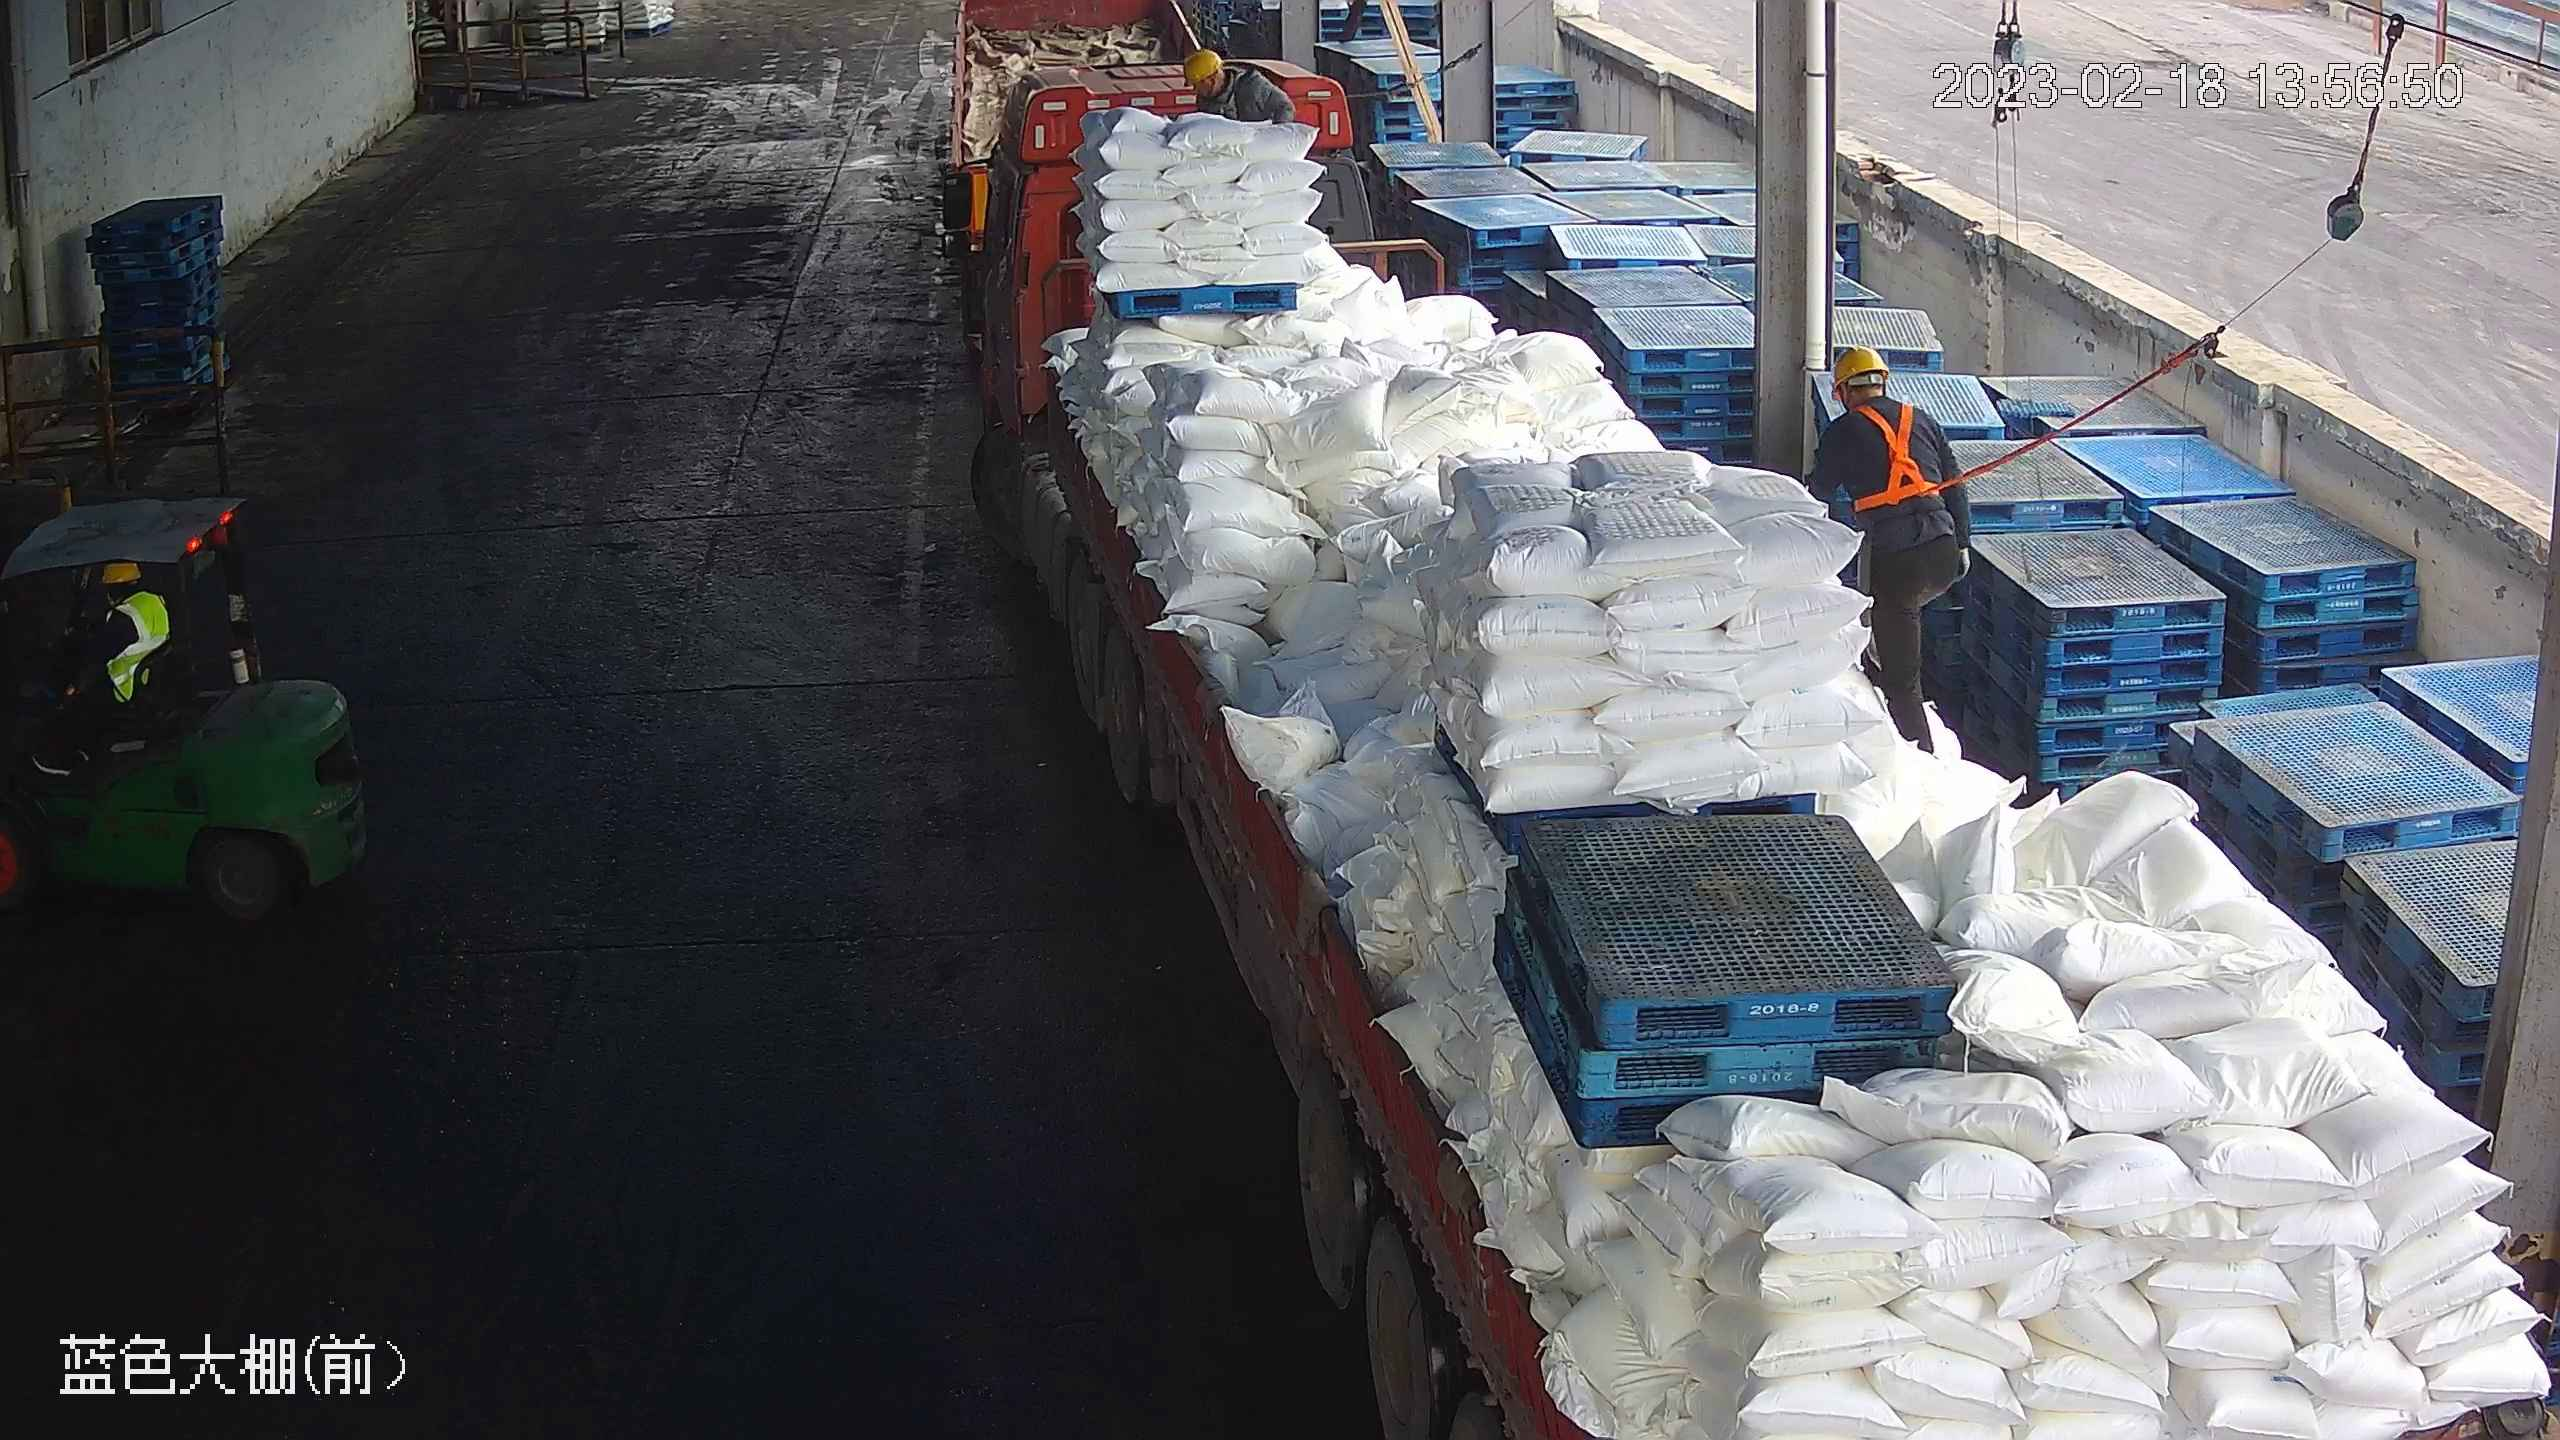belt: (1844, 399, 1941, 509), (1211, 66, 1265, 111)
head: (1812, 340, 1949, 453), (94, 560, 168, 637), (1182, 45, 1269, 106)
helmet: (1825, 340, 1890, 391), (1183, 46, 1227, 86)
people: (1807, 340, 1971, 761), (42, 554, 171, 751)
truck: (941, 65, 2555, 1440)
